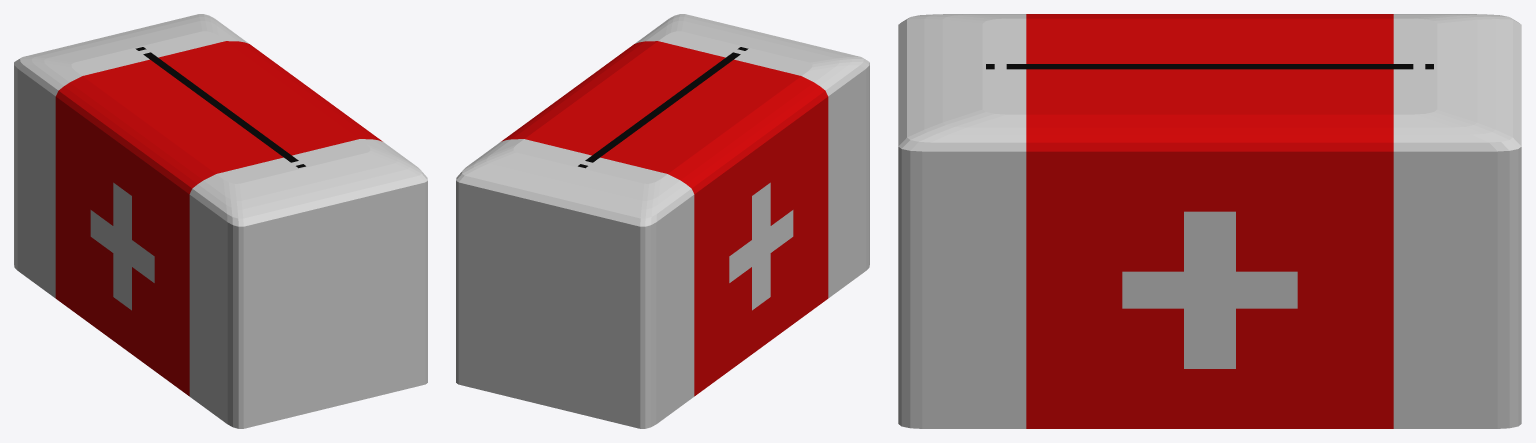
The model's file is First Aid.fbx.
The picture shows the model from 3 angles, left to right: view 1: azimuth 30°, elevation 25°; view 2: azimuth 150°, elevation 25°; view 3: azimuth 270°, elevation 25°; orthographic projection. The views are drawn at different scales.
Parts seen in each view (by area): view 1: First Aid; view 2: First Aid; view 3: First Aid.
Part boxes in pixels (x1,y1,x2,y2): First Aid: (14,14,427,428); First Aid: (456,14,869,428); First Aid: (898,14,1521,428).
Size of the model in its own units: 100 by 105 by 200.
